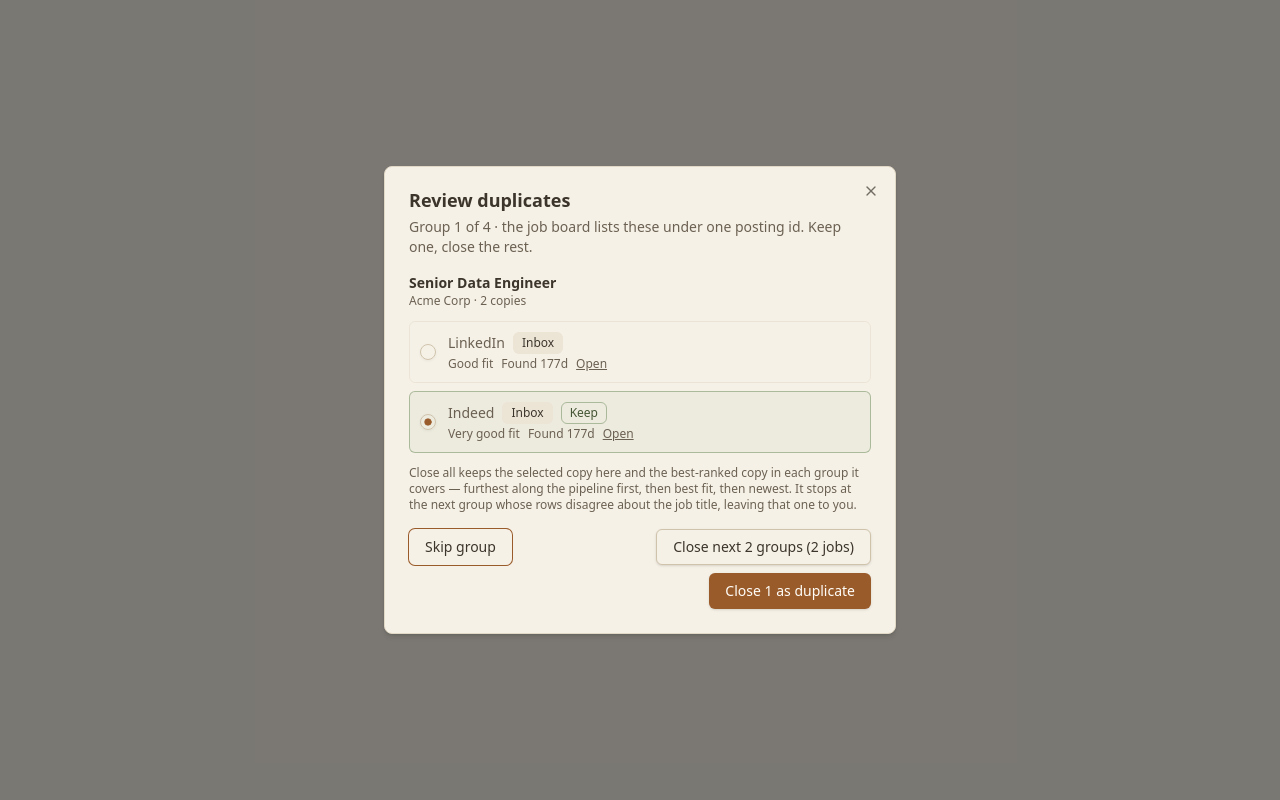
Test: DuplicateReviewModal › sweeps only up to a later review-only group, and lands the wizard on it
Click the button "Close next 2 groups (2 jobs)". click: (764, 547)
box: [656,529,871,565]
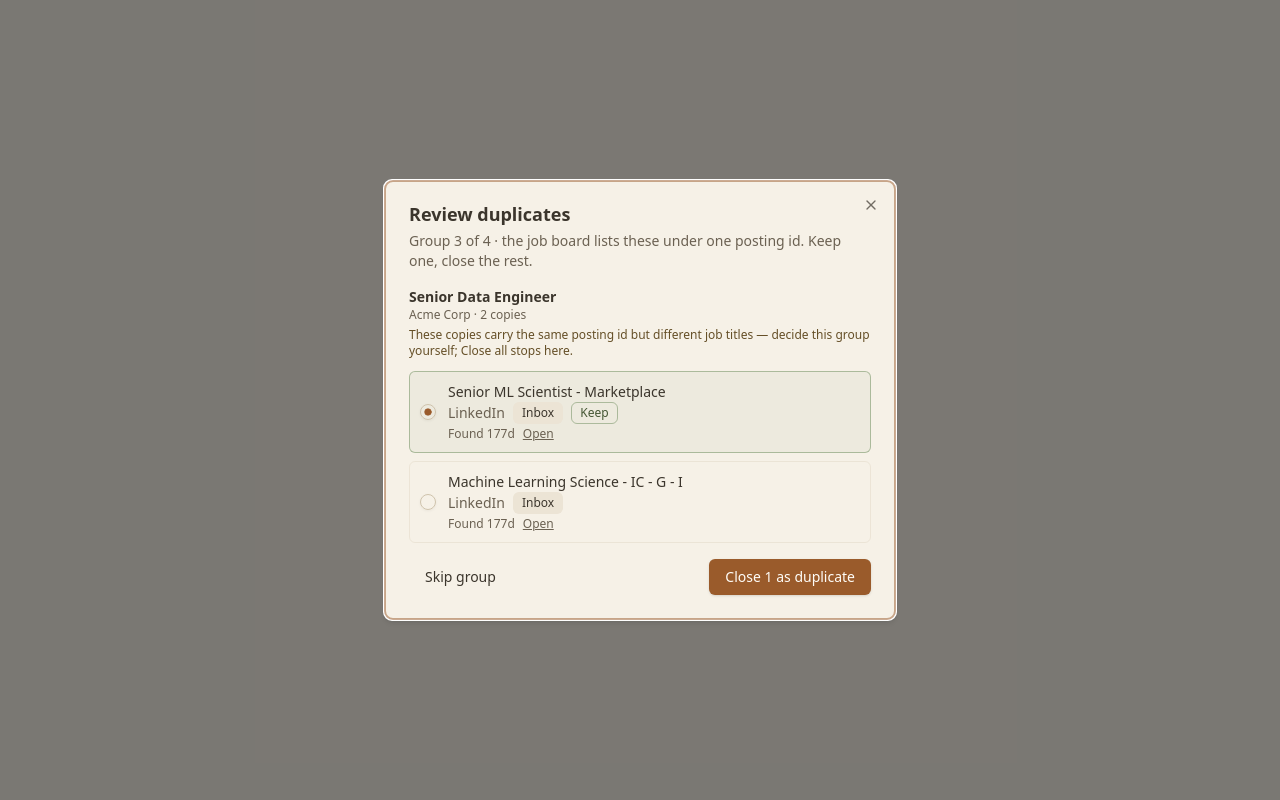
Now the text "different job titles" is shown, box [409,326,870,359]
